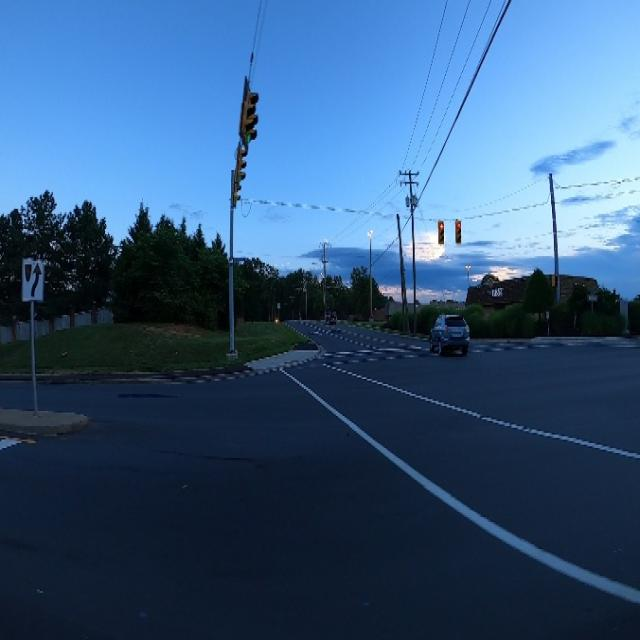car: (424, 302, 471, 362)
